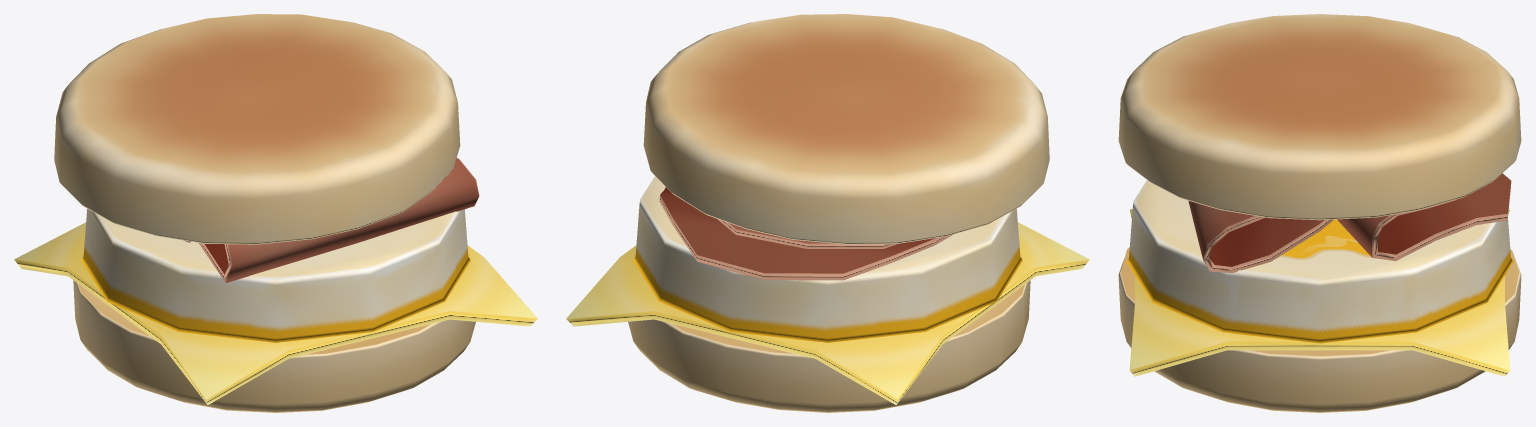
Rendered from HamEgg.FBX.
3 renders of one model, left to right at view 1: azimuth 30°, elevation 25°; view 2: azimuth 150°, elevation 25°; view 3: azimuth 270°, elevation 25°, orthographic.
Parts seen in each view (by area): view 1: Hamegg; view 2: Hamegg; view 3: Hamegg.
Boxes of the visible parts, bbox=[...] form: Hamegg: bbox=[14, 14, 537, 412]; Hamegg: bbox=[566, 14, 1089, 412]; Hamegg: bbox=[1118, 14, 1521, 412].
Bounding box in the file's own units: 21.3 × 13.92 × 20.22.
